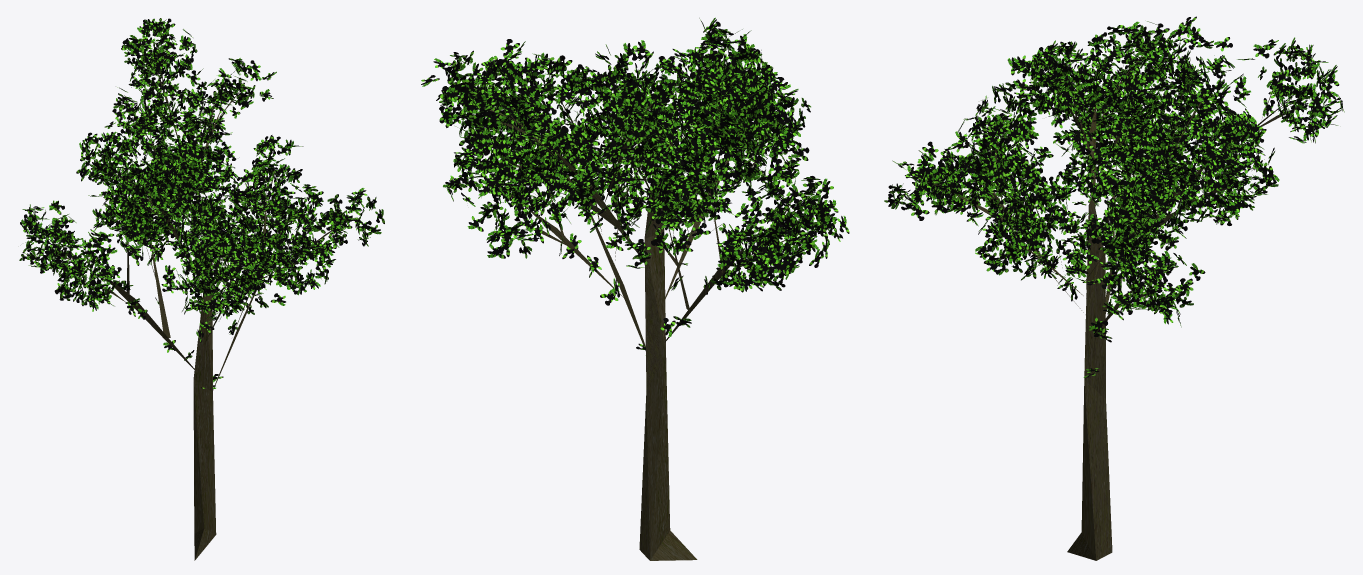
Rendered from emergent_fig_v01_LOD2.fbx.
3 views of the same model, side by side, from view 1: azimuth 30°, elevation 25°; view 2: azimuth 150°, elevation 25°; view 3: azimuth 270°, elevation 25° (orthographic). The views are drawn at different scales.
Parts seen in each view (by area): view 1: emergent_fig_v01_LOD2; view 2: emergent_fig_v01_LOD2; view 3: emergent_fig_v01_LOD2.
Boxes of the visible parts, x1=… form: emergent_fig_v01_LOD2: x1=19, y1=18, x2=384, y2=560; emergent_fig_v01_LOD2: x1=421, y1=17, x2=849, y2=560; emergent_fig_v01_LOD2: x1=884, y1=16, x2=1344, y2=560.
Size of the model in its own units: 2874 by 3240 by 4222.
Materials: 2 (2 with a texture image).
